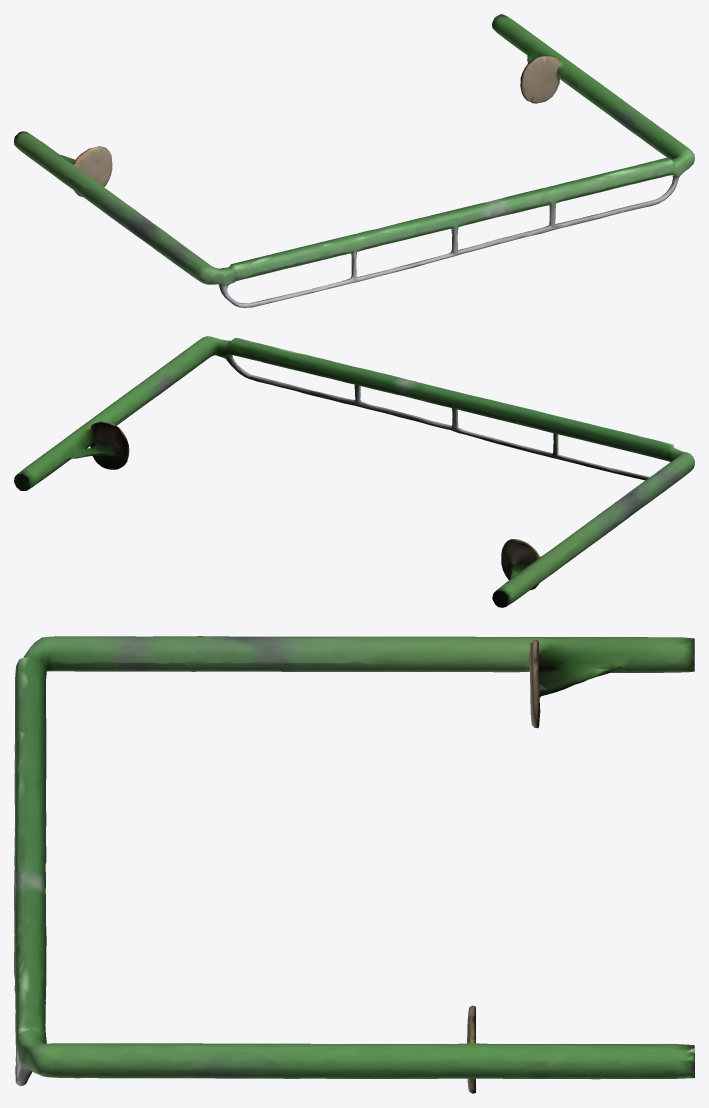
Rendered from pullup-green.glb.
The picture shows the model from 3 angles, top to bottom: view 1: azimuth 30°, elevation 25°; view 2: azimuth 150°, elevation 25°; view 3: azimuth 270°, elevation 25°; orthographic projection. The views are drawn at different scales.
Parts seen in each view (by area): view 1: pullup-green; view 2: pullup-green; view 3: pullup-green.
Part boxes in pixels (box(x1,y1,x2,y2)): pullup-green: box(14, 14, 694, 307); pullup-green: box(14, 336, 694, 607); pullup-green: box(14, 636, 694, 1093).
Size of the model in its own units: 0.9999 by 0.1049 by 0.6822.
